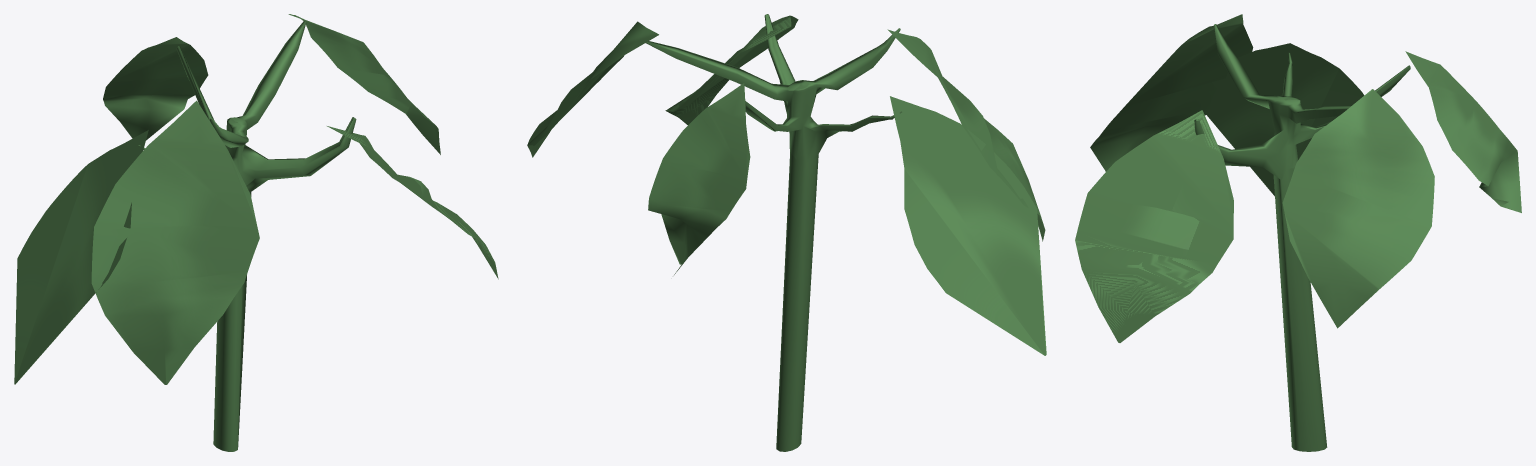
Rendered from Planta 01.fbx.
The picture shows the model from 3 angles, left to right: view 1: azimuth 30°, elevation 25°; view 2: azimuth 150°, elevation 25°; view 3: azimuth 270°, elevation 25°; orthographic projection. The views are drawn at different scales.
Visible parts, largest first — view 1: Cilindro; view 2: Cilindro; view 3: Cilindro.
Boxes of the visible parts, x1,y1,x2,y2 form: Cilindro: (14,14,498,451); Cilindro: (527,14,1046,451); Cilindro: (1075,14,1521,451).
Size of the model in its own units: 327 by 265 by 265.
Materials: 1 (1 with a texture image).
